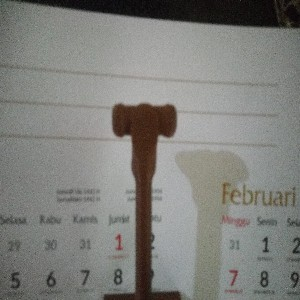palu: (111, 100, 177, 300)
